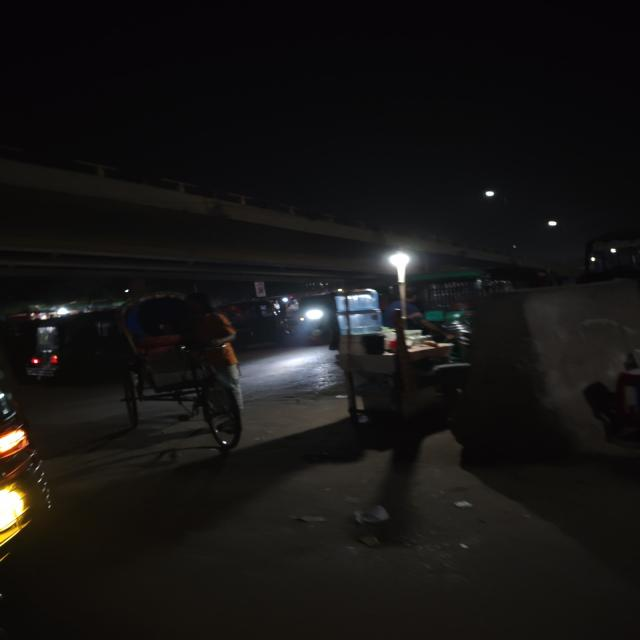rickshaw: (101, 286, 256, 459)
